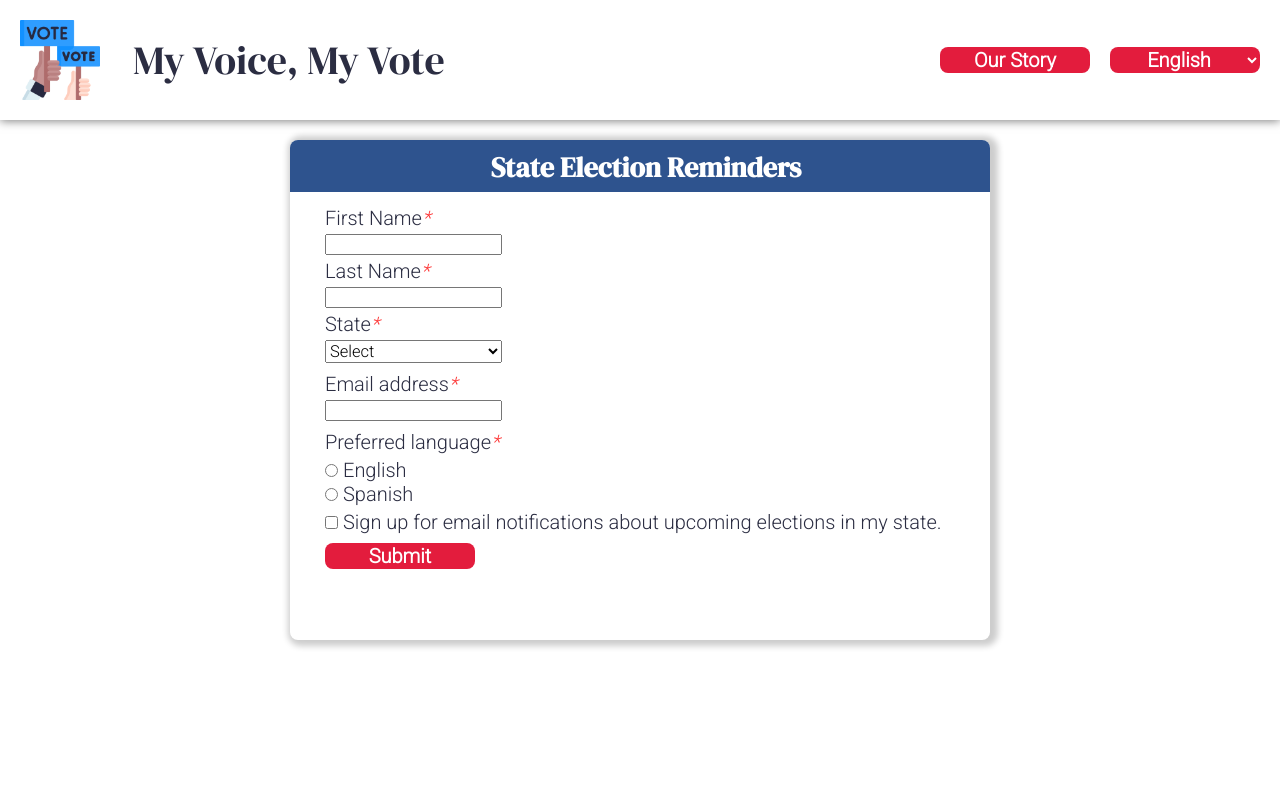
Test: Mi Voz, Mi Voto email notification form user flow › Should include text-based labels for each input in Spanish
Select "English" in the dropdown with class "en-espanol-button". click: (1185, 60)
box: [1110,47,1260,73]
Select "Español" in the dropdown with class "en-espanol-button". click: (1185, 60)
box: [1110,47,1260,73]
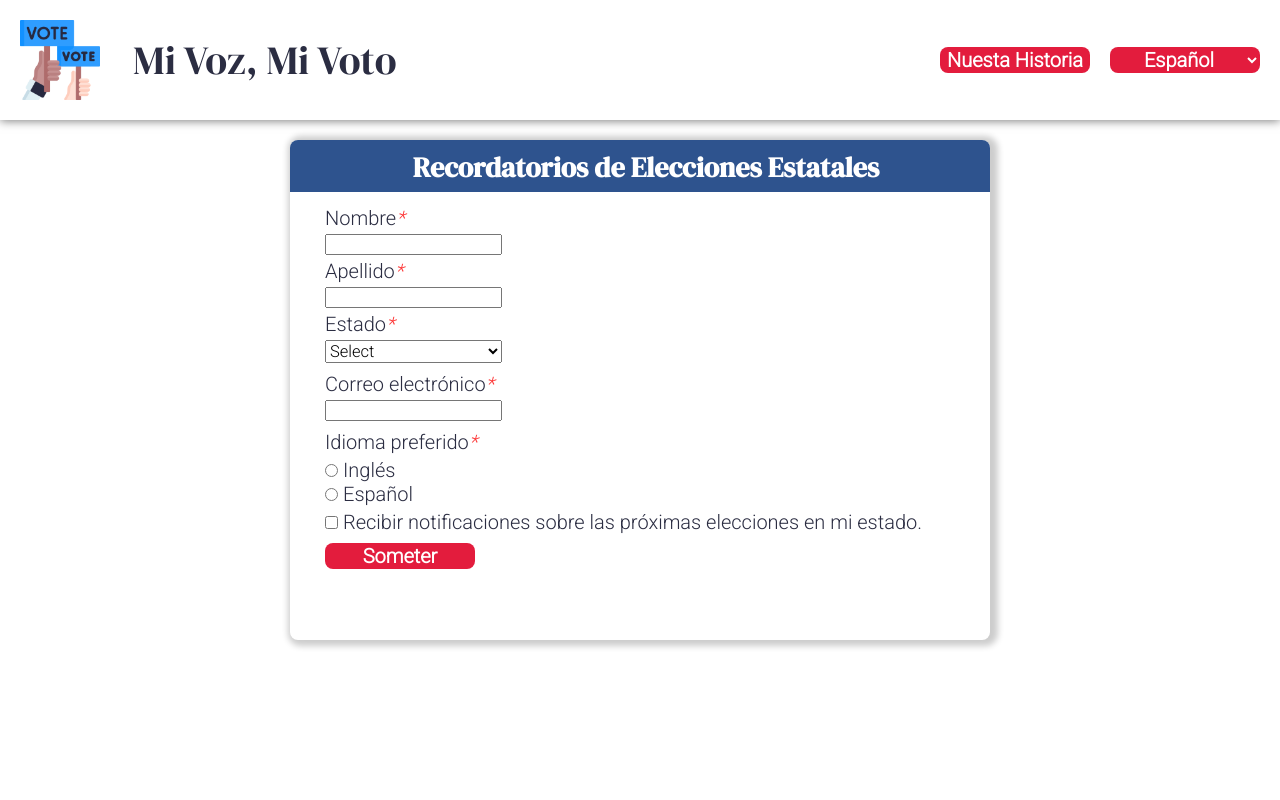
Expected: the number of forms is 1, [290,140,990,640]
Result: the button "Someter" is shown at [325,543,475,569]
